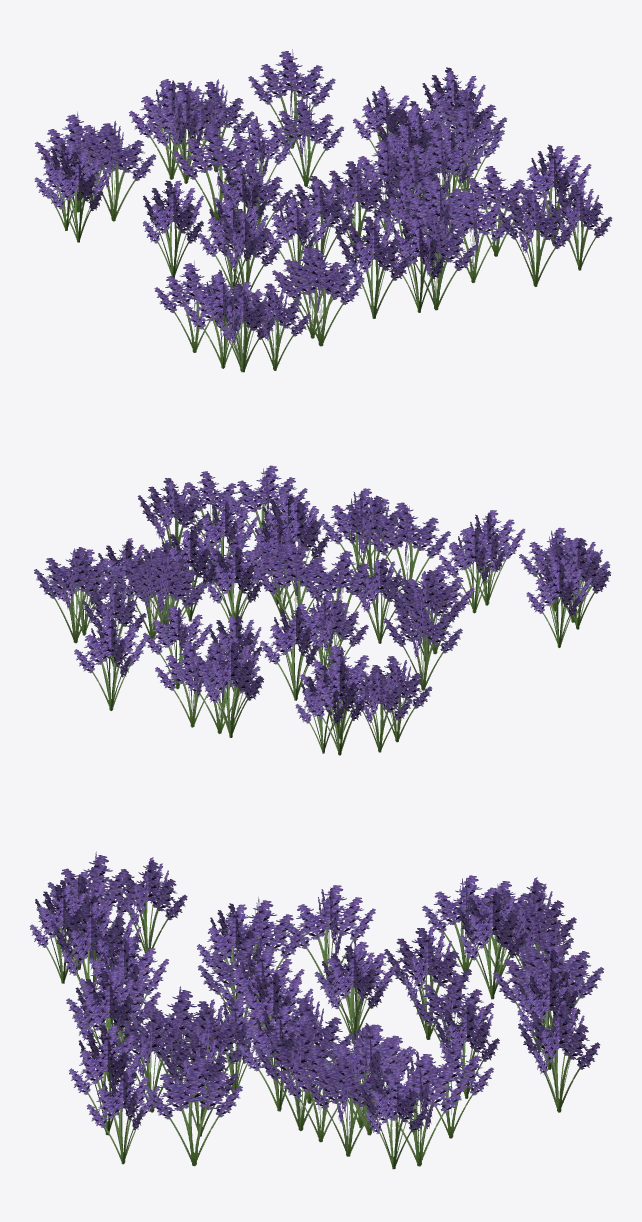
Rendered from lavender_quest.glb.
3 views of the same model, one above another, from view 1: azimuth 30°, elevation 25°; view 2: azimuth 150°, elevation 25°; view 3: azimuth 270°, elevation 25° (orthographic). The views are drawn at different scales.
Visible parts, largest first — view 1: red-baron-grass-ornamental-Va7qqJC-600.001_red-baron-grass-o; view 2: red-baron-grass-ornamental-Va7qqJC-600.001_red-baron-grass-o; view 3: red-baron-grass-ornamental-Va7qqJC-600.001_red-baron-grass-o.
Part boxes in pixels (box(x1,y1,x2,y2)): red-baron-grass-ornamental-Va7qqJC-600.001_red-baron-grass-o: box(34, 49, 612, 372); red-baron-grass-ornamental-Va7qqJC-600.001_red-baron-grass-o: box(34, 465, 610, 755); red-baron-grass-ornamental-Va7qqJC-600.001_red-baron-grass-o: box(30, 851, 604, 1169).
Bounding box in the file's own units: 4.91 × 1.17 × 4.82.
1 material, 1 textured.
